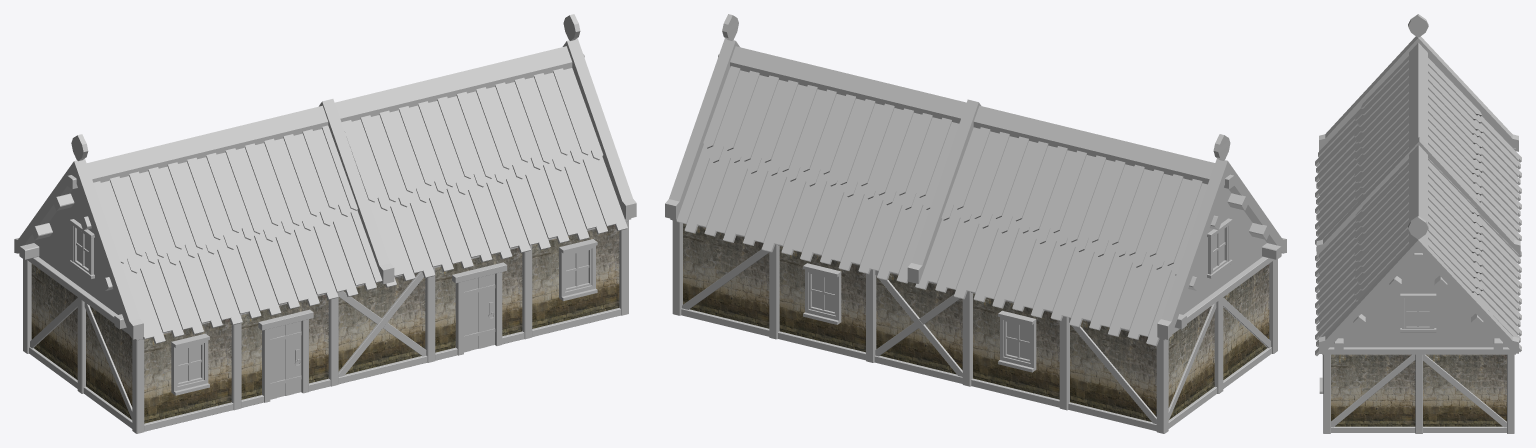
File: 8Building.fbx
3 renders of one model, left to right at view 1: azimuth 30°, elevation 25°; view 2: azimuth 150°, elevation 25°; view 3: azimuth 270°, elevation 25°, orthographic. The views are drawn at different scales.
Visible parts, largest first — view 1: Plane.029; view 2: Plane.029; view 3: Plane.029.
Part boxes in pixels (x1,y1,x2,y2): Plane.029: (14,14,636,433); Plane.029: (665,14,1286,433); Plane.029: (1315,14,1521,433).
Size of the model in its own units: 15.86 by 7.65 by 6.61.
